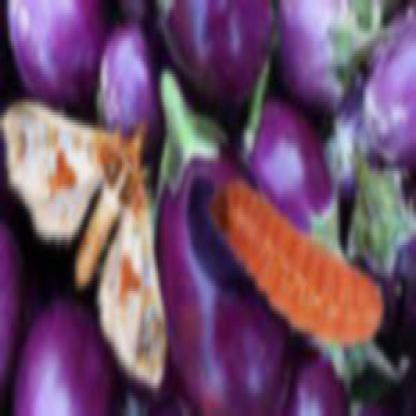leucinodes: (4, 97, 165, 391)
